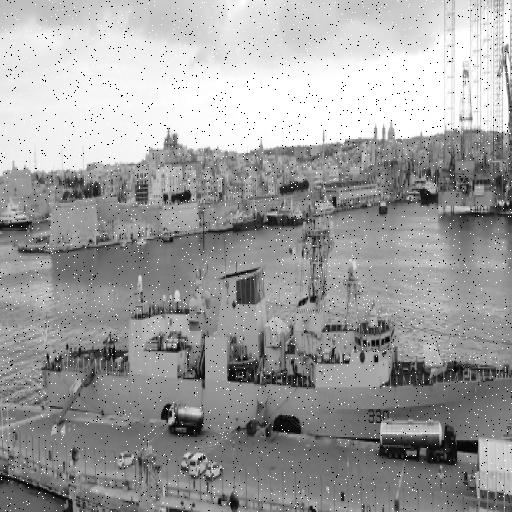Fragata: (39, 192, 512, 466)
